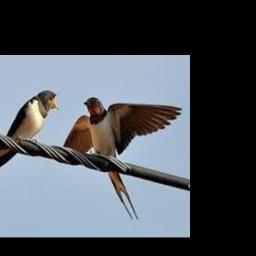Swallow: (62, 97, 182, 219), (0, 91, 59, 173)
